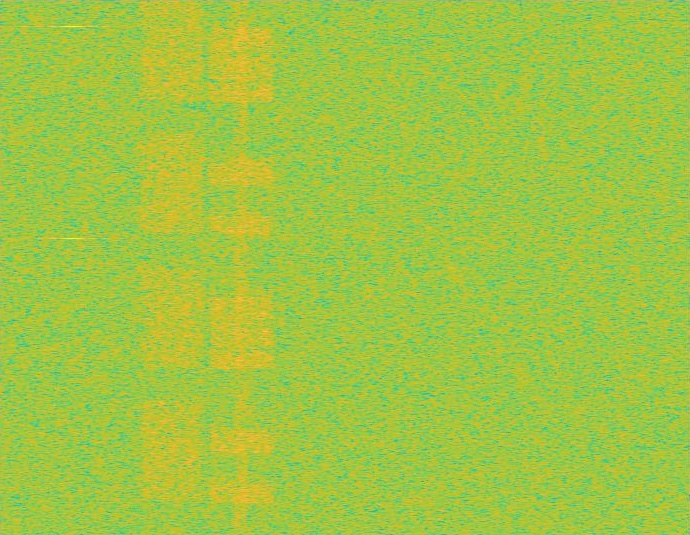5G: (138, 0, 207, 534)
DSSS: (234, 0, 249, 534)
LTE: (207, 0, 276, 534)
Radar: (66, 0, 80, 534)
